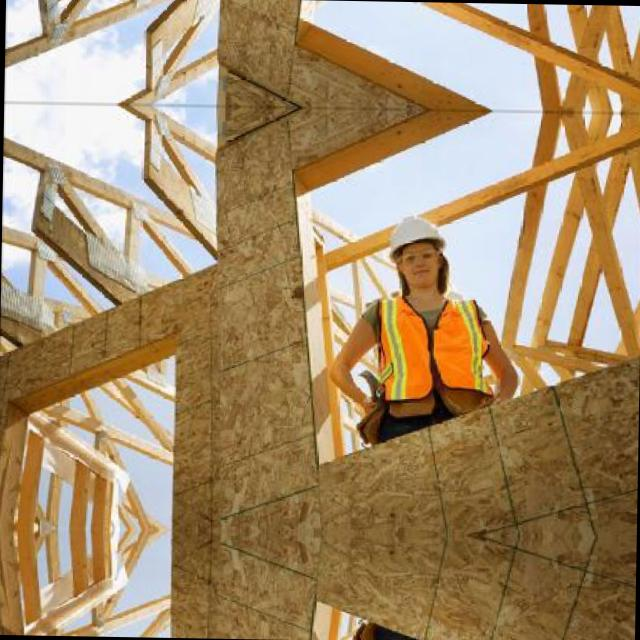helmet: (379, 203, 448, 292)
